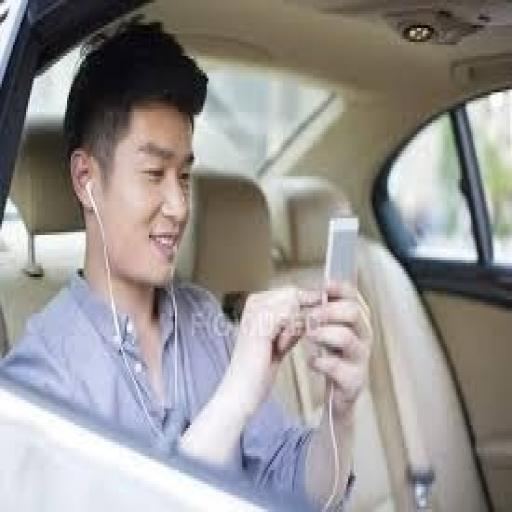listening_to_music: (0, 17, 376, 509)
